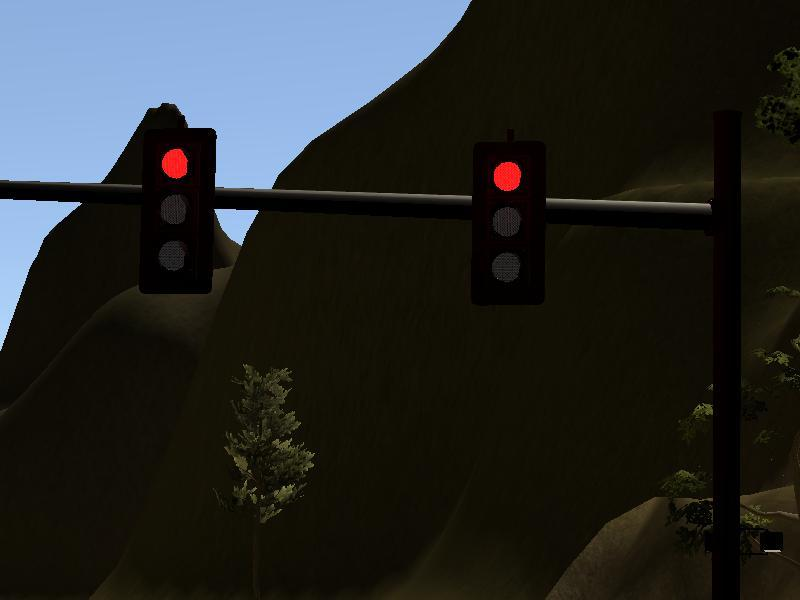Red: (141, 127, 216, 295), (471, 140, 545, 305)
